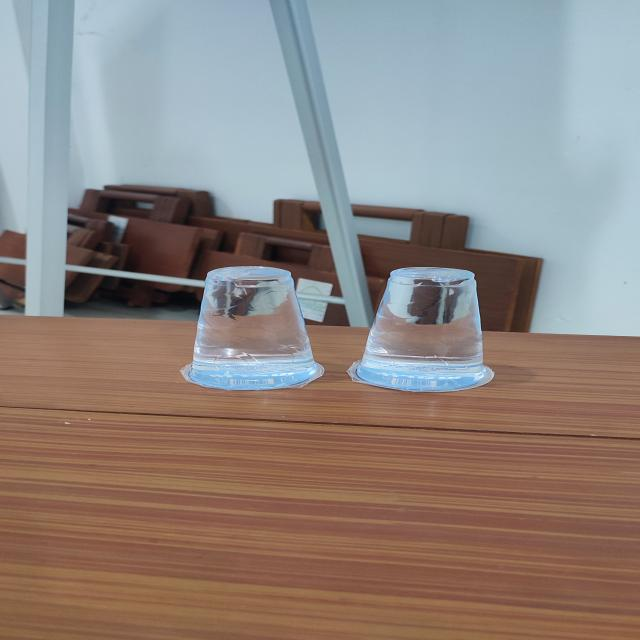air gelas: (350, 264, 514, 399), (178, 262, 333, 399)
